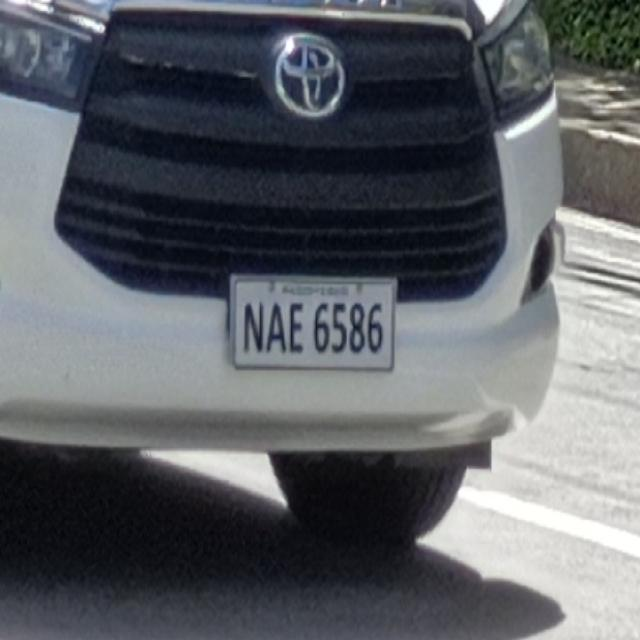LicensePlate: (215, 266, 408, 379)
